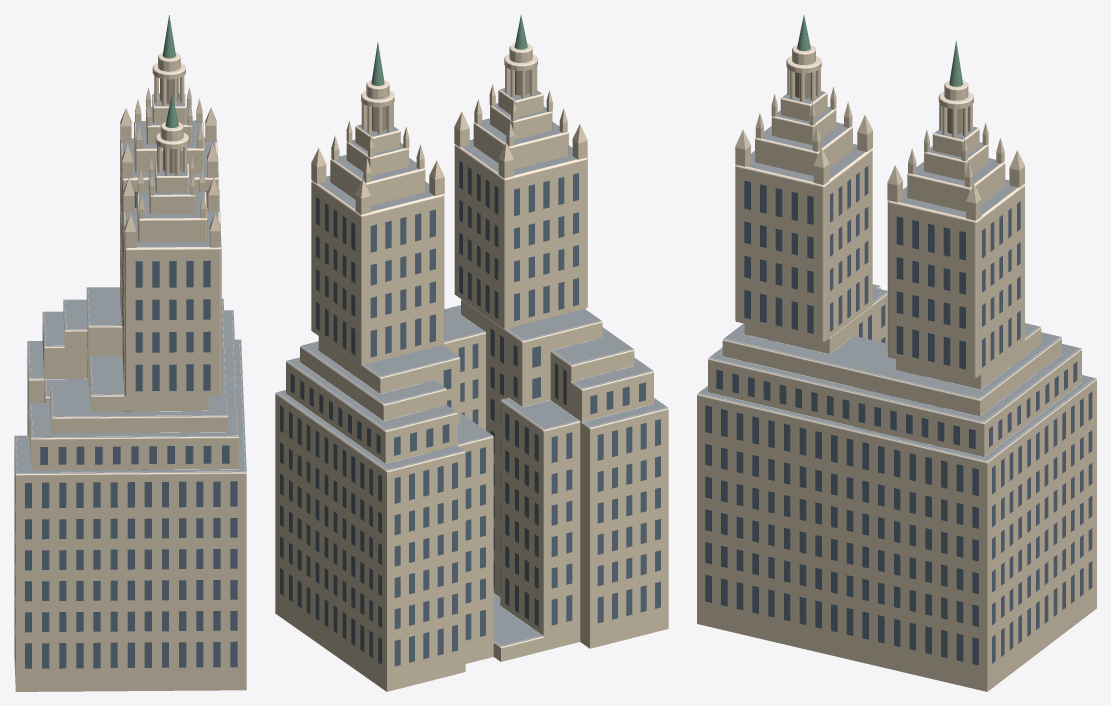
3 renders of one model, left to right at view 1: azimuth 30°, elevation 25°; view 2: azimuth 150°, elevation 25°; view 3: azimuth 270°, elevation 25°, orthographic. The views are drawn at different scales.
Parts seen in each view (by area): view 1: the-san-remo; view 2: the-san-remo; view 3: the-san-remo.
Boxes of the visible parts, bbox=[...] form: the-san-remo: bbox=[14, 15, 246, 691]; the-san-remo: bbox=[275, 14, 668, 691]; the-san-remo: bbox=[697, 15, 1096, 691].
Bounding box in the file's own units: 69.21 × 124 × 73.97.
